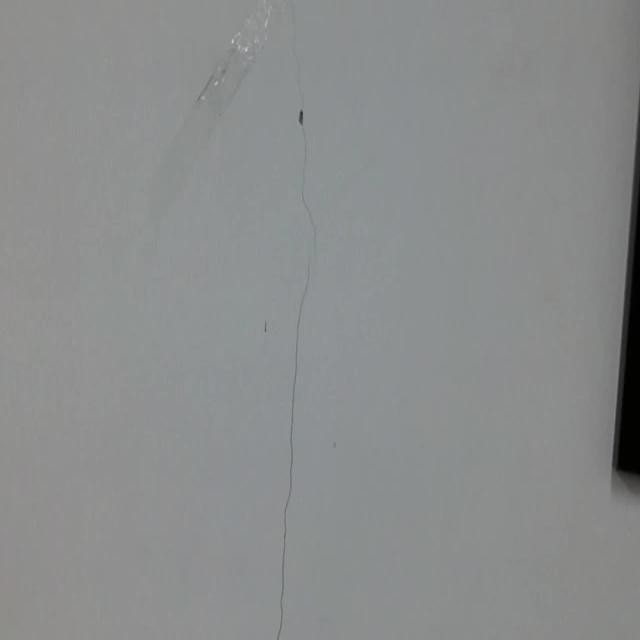Crack: (260, 0, 342, 640)
